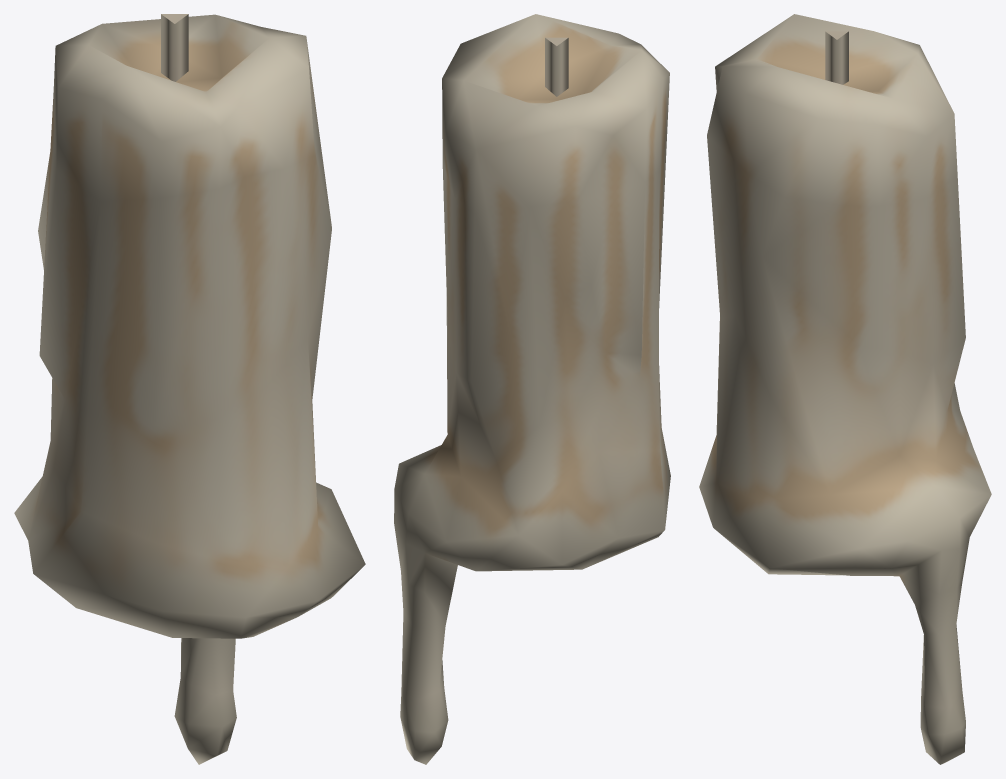
File: SM_CandleSlim_02.FBX
3 views of the same model, side by side, from view 1: azimuth 30°, elevation 25°; view 2: azimuth 150°, elevation 25°; view 3: azimuth 270°, elevation 25° (orthographic). The views are drawn at different scales.
Parts seen in each view (by area): view 1: SM_CandleSlim_02_LOD0; view 2: SM_CandleSlim_02_LOD0; view 3: SM_CandleSlim_02_LOD0.
Boxes of the visible parts, left/top/right/bottom form: SM_CandleSlim_02_LOD0: left=14, top=14, right=365, bottom=764; SM_CandleSlim_02_LOD0: left=394, top=14, right=670, bottom=764; SM_CandleSlim_02_LOD0: left=699, top=14, right=991, bottom=764.
Size of what is drawn, in the model's own units: 8 by 7.87 by 20.53.
